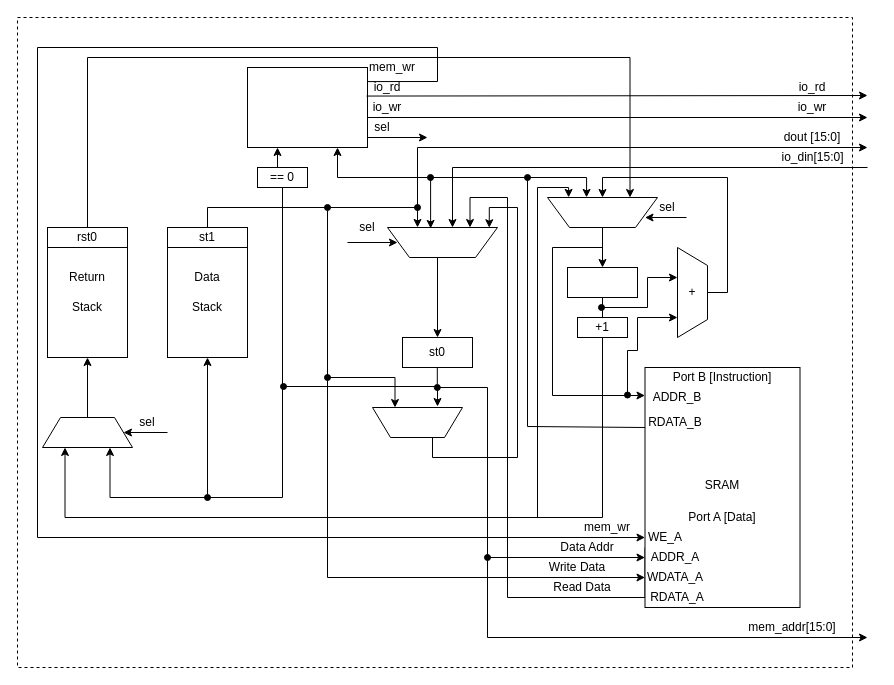
Image size: 894x685. Some labels were removed from this diagram. The shapes that lost their labels are listed below. From the top down, each one's centre as x and y in pixels, then its label:
point (307, 107): DecodeLogic
point (602, 282): PC
point (417, 422): ALU
